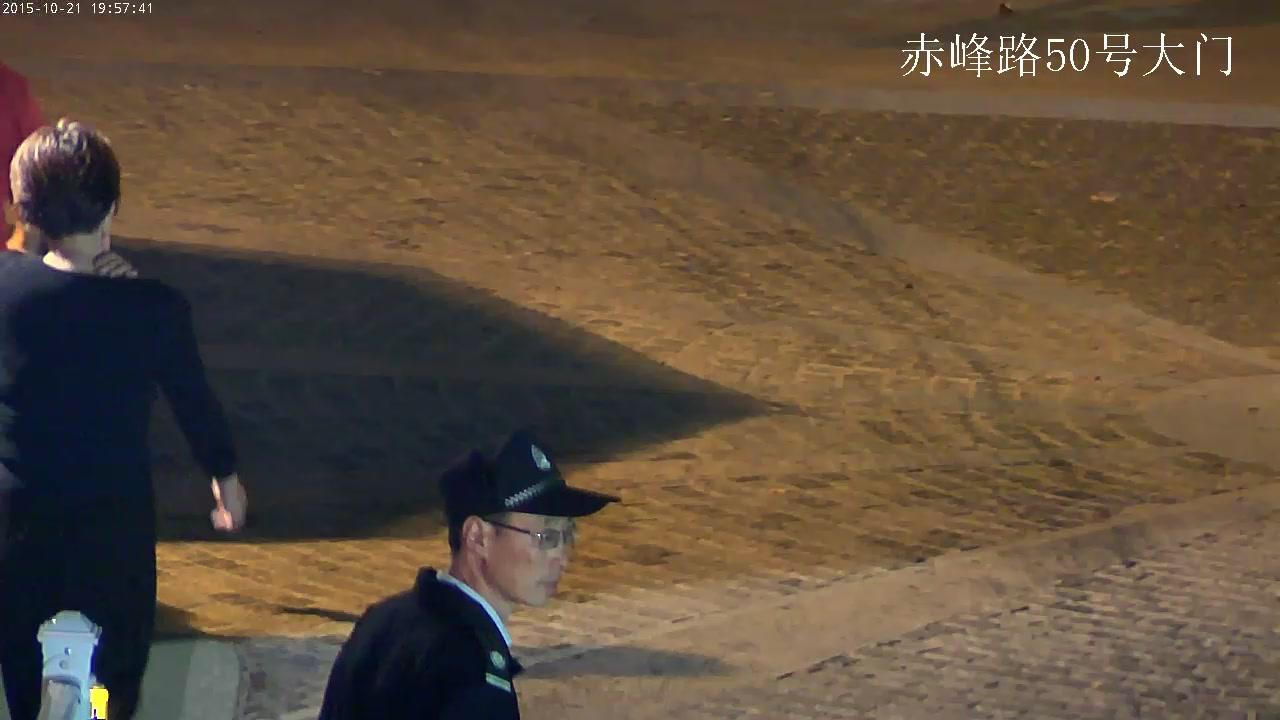face: (485, 511, 565, 603)
